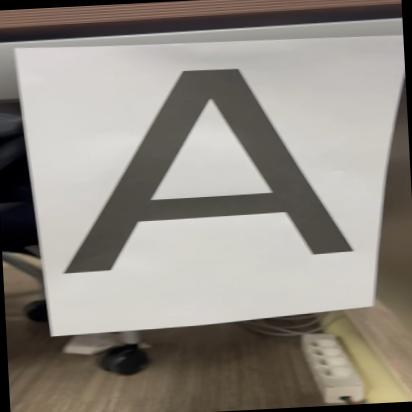seat: (37, 42, 372, 296)
